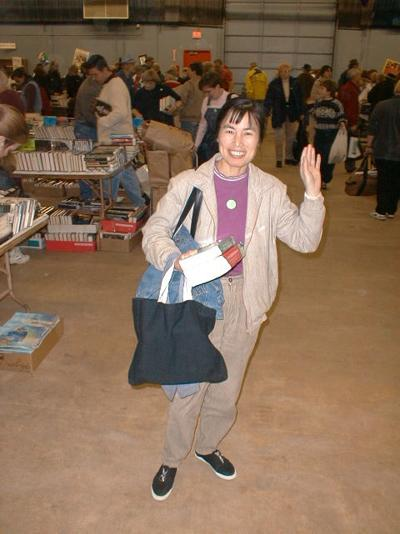person: (141, 95, 326, 502)
